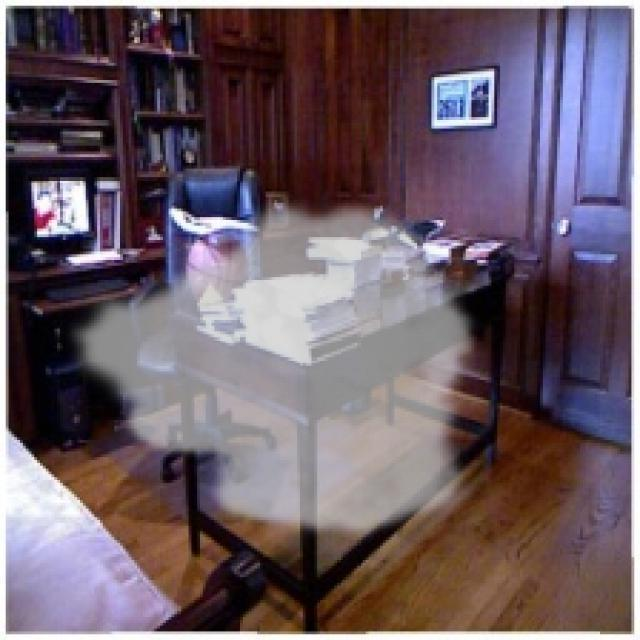Smoke: (63, 191, 480, 540)
